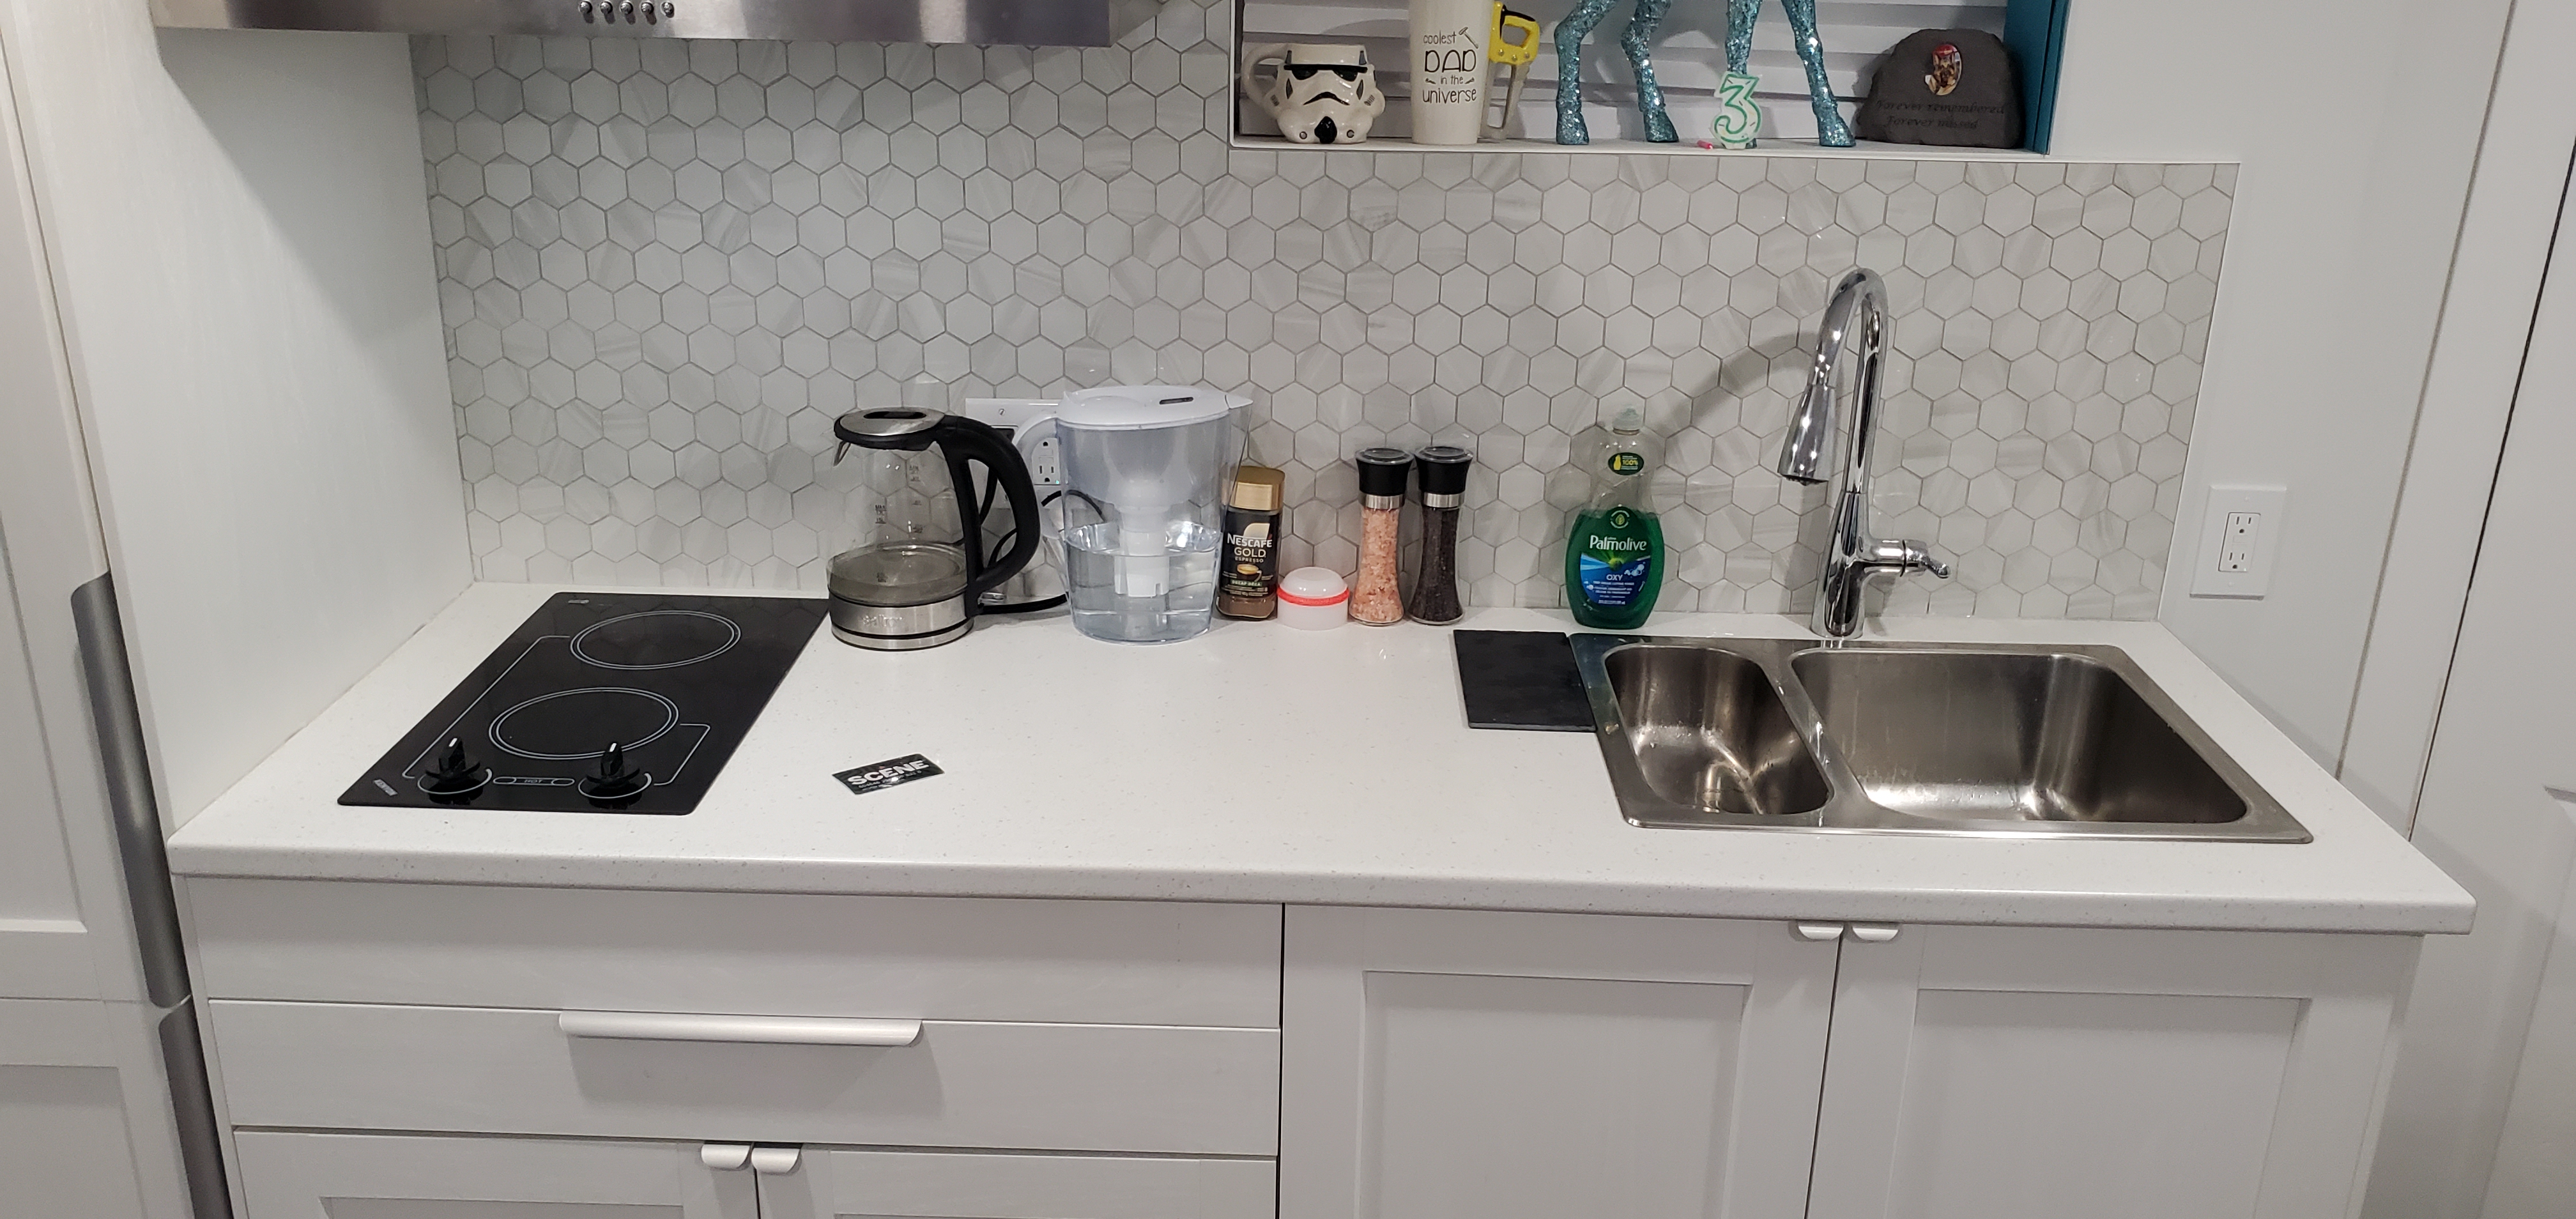cooktop: (315, 588, 853, 820)
giftcard: (833, 747, 945, 795)
sink: (1567, 632, 2328, 839)
